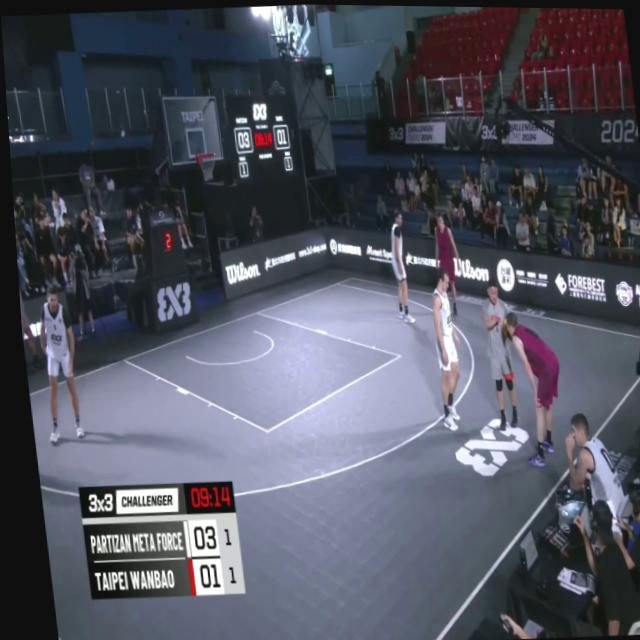ball: (496, 314, 513, 342)
hoop: (192, 148, 218, 186)
player: (499, 305, 564, 471), (28, 288, 79, 441), (420, 263, 461, 423), (423, 203, 458, 314), (382, 207, 411, 325)
